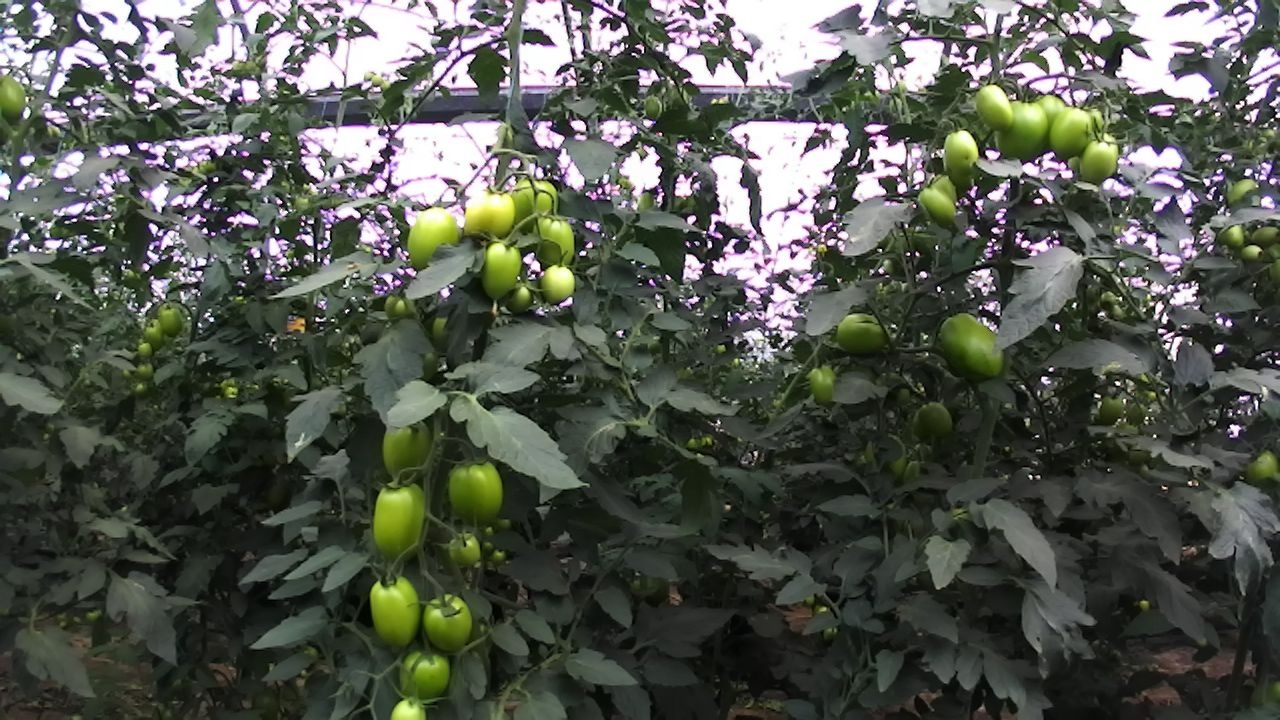tomato: (931, 304, 1027, 395), (365, 468, 436, 577), (361, 563, 432, 658), (398, 191, 471, 282), (441, 447, 512, 534), (988, 90, 1056, 172), (414, 583, 482, 664), (372, 405, 440, 486), (523, 203, 592, 280), (503, 166, 568, 246), (391, 636, 461, 706), (828, 298, 898, 367), (455, 179, 523, 247), (477, 232, 531, 304), (903, 391, 961, 454), (909, 177, 969, 234), (1044, 101, 1098, 164), (1073, 131, 1120, 199), (939, 120, 986, 186), (970, 79, 1024, 136), (534, 252, 582, 312), (801, 356, 852, 412), (0, 62, 42, 129), (438, 525, 491, 573), (1237, 438, 1278, 494), (501, 272, 546, 322), (381, 684, 440, 720), (1092, 383, 1134, 433), (153, 300, 191, 340), (1216, 217, 1251, 253), (140, 320, 170, 357), (1235, 236, 1268, 265), (131, 339, 161, 361)
